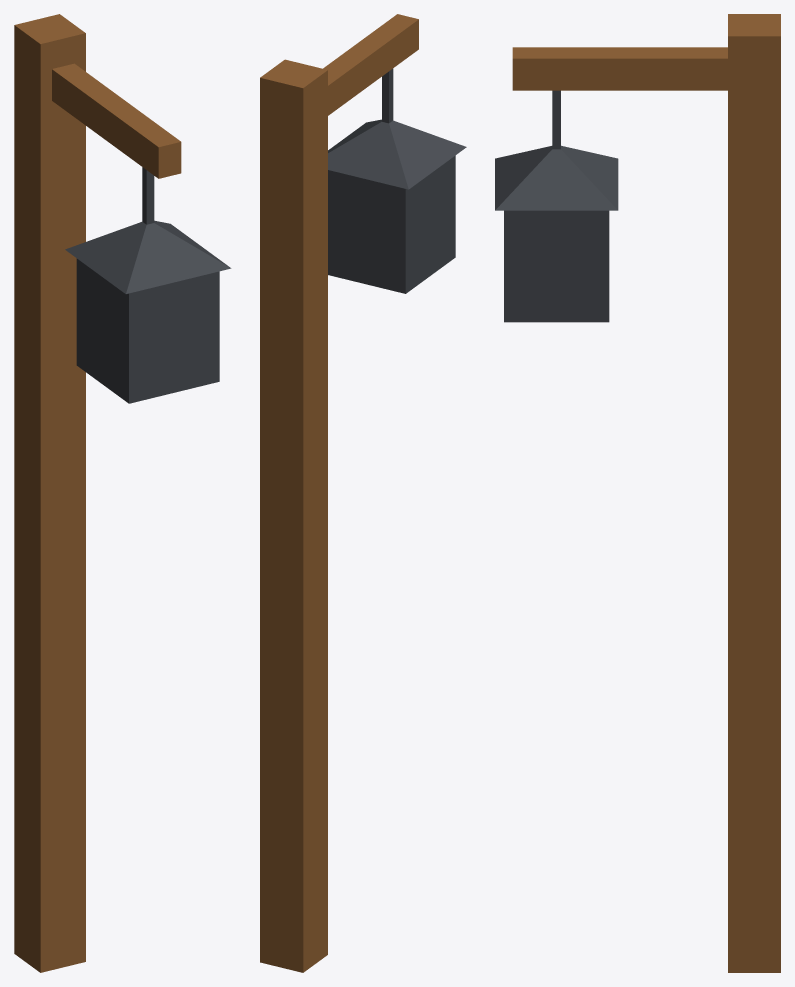
The model's file is camp_lantern.glb.
3 renders of one model, left to right at view 1: azimuth 30°, elevation 25°; view 2: azimuth 150°, elevation 25°; view 3: azimuth 270°, elevation 25°, orthographic. The views are drawn at different scales.
Parts seen in each view (by area): view 1: camp_lantern; view 2: camp_lantern; view 3: camp_lantern.
Boxes of the visible parts, x1,y1,x2,y2 form: camp_lantern: (14, 14, 231, 972); camp_lantern: (260, 14, 466, 972); camp_lantern: (495, 14, 780, 972).
Size of the model in its own units: 0.28 by 2.35 by 0.65.
Materials: 1 (1 with a texture image).
